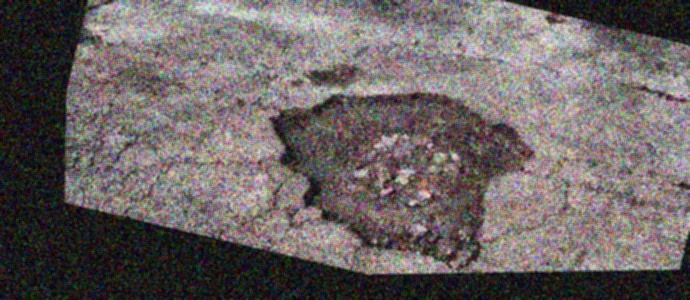pothole: (230, 22, 576, 300)
